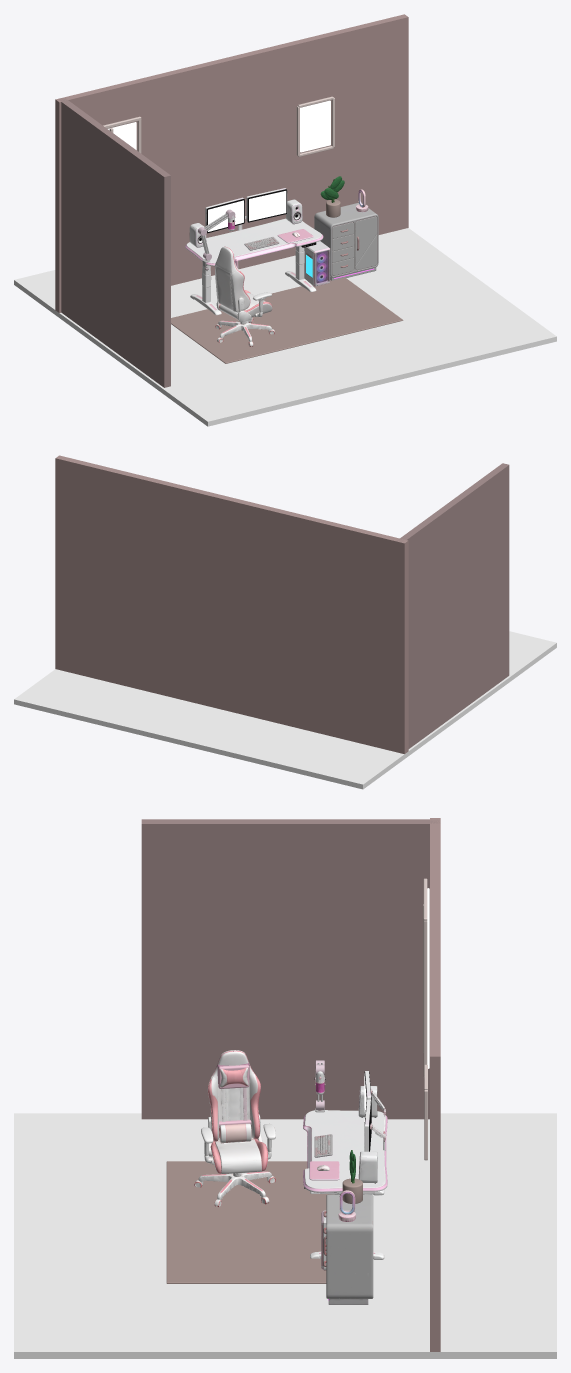
3 renders of one model, top to bottom at view 1: azimuth 30°, elevation 25°; view 2: azimuth 150°, elevation 25°; view 3: azimuth 270°, elevation 25°, orthographic. The views are drawn at different scales.
Visible parts, largest first — view 1: Architecture_Back_Wall, Architecture_Floor, Architecture_Left_Wall, Decor_Rug, GEO_Desk_Moving_Top, GEO_Chair_Swivel_Upper, GEO_Cabinet_Body, Wall_Art_Art, GEO_Door_Right_Front, 04-pc-tower_mesh_01, Screen_Right, GEO_Desk_Fixed_Base (+2 smaller); view 2: Architecture_Back_Wall, Architecture_Left_Wall, Architecture_Floor; view 3: Architecture_Floor, Architecture_Left_Wall, Decor_Rug, Architecture_Back_Wall, GEO_Chair_Swivel_Upper, GEO_Cabinet_Body, GEO_Desk_Moving_Top, GEO_Chair_Static_Base, Window_Frame_V.001.
Part boxes in pixels (x1,y1,x2,y2): Architecture_Back_Wall: (55,14,408,312); Architecture_Floor: (14,228,556,426); Architecture_Left_Wall: (58,98,170,387); Decor_Rug: (171,277,403,363); GEO_Desk_Moving_Top: (185,218,323,274); GEO_Chair_Swivel_Upper: (215,246,272,321); GEO_Cabinet_Body: (314,202,378,280); Wall_Art_Art: (300,100,330,152); GEO_Door_Right_Front: (355,216,377,270); 04-pc-tower_mesh_01: (304,241,330,286); Screen_Right: (249,191,286,221); GEO_Desk_Fixed_Base: (190,263,316,315); Architecture_Back_Wall: (55,455,408,753); Architecture_Left_Wall: (396,463,509,748); Architecture_Floor: (14,631,556,789); Architecture_Floor: (14,1113,556,1358); Architecture_Left_Wall: (141,819,440,1119); Decor_Rug: (166,1161,334,1283); Architecture_Back_Wall: (430,818,440,1351); GEO_Chair_Swivel_Upper: (201,1050,275,1173); GEO_Cabinet_Body: (326,1194,373,1304); GEO_Desk_Moving_Top: (303,1110,387,1194); GEO_Chair_Static_Base: (194,1171,275,1206); Window_Frame_V.001: (423,921,427,1075).
Bounding box in the file's own units: 5.2 × 3.07 × 5.
32 materials, 13 textured.
